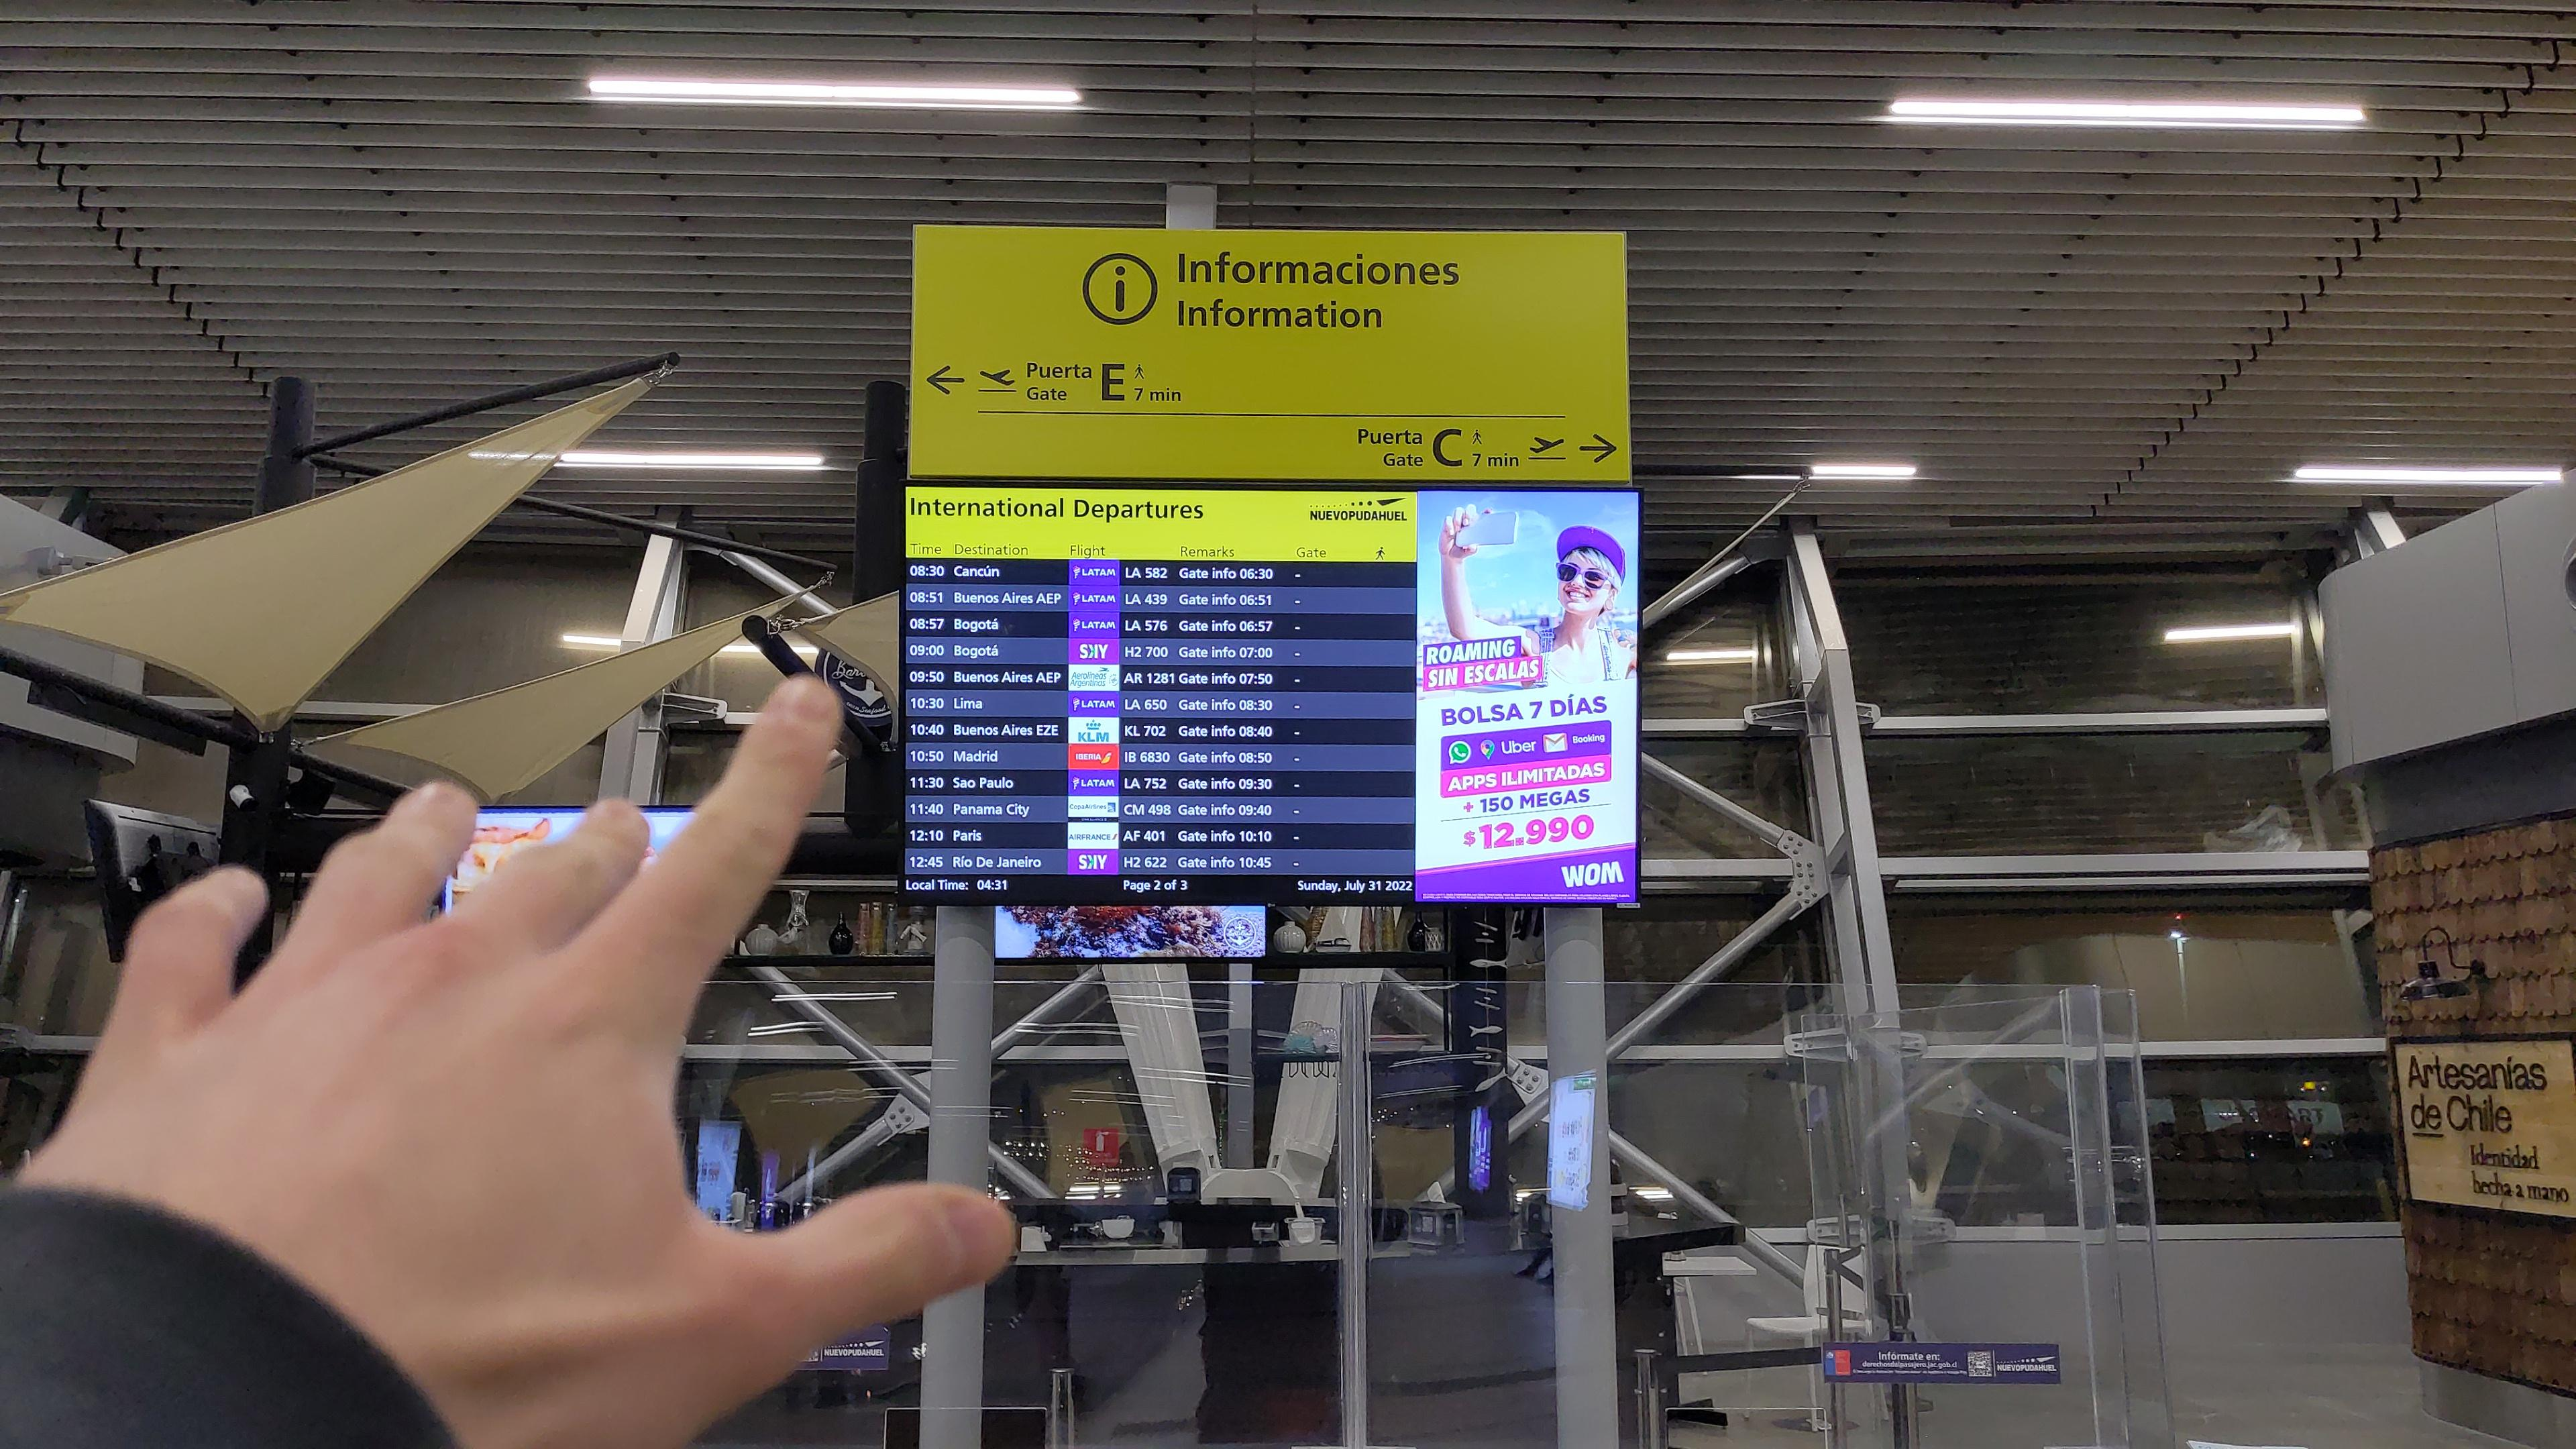airplane symbol: (977, 366, 1017, 389), (1529, 435, 1568, 453)
extinguisher symbol: (1093, 1129, 1111, 1154)
thin left arrow: (925, 363, 966, 396)
thin right arrow: (1578, 432, 1619, 465)
